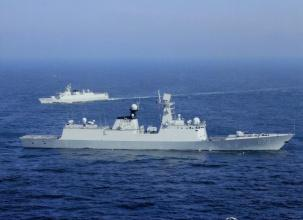warship: (16, 96, 296, 150), (39, 81, 110, 106)
